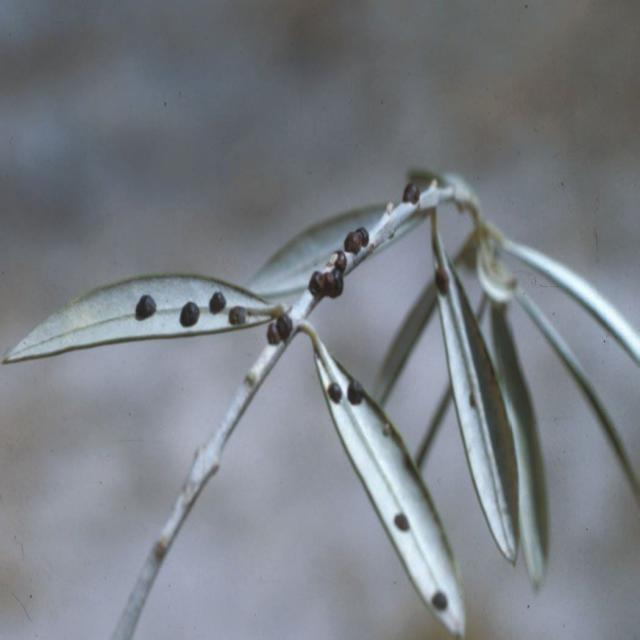Black Scale: (308, 251, 347, 300), (267, 312, 293, 347), (344, 227, 369, 255), (135, 294, 156, 320), (180, 301, 200, 328), (347, 380, 367, 405), (402, 182, 420, 208), (434, 263, 449, 294), (208, 292, 227, 314), (228, 306, 246, 326), (431, 590, 447, 611), (327, 382, 342, 403), (394, 513, 410, 531)
